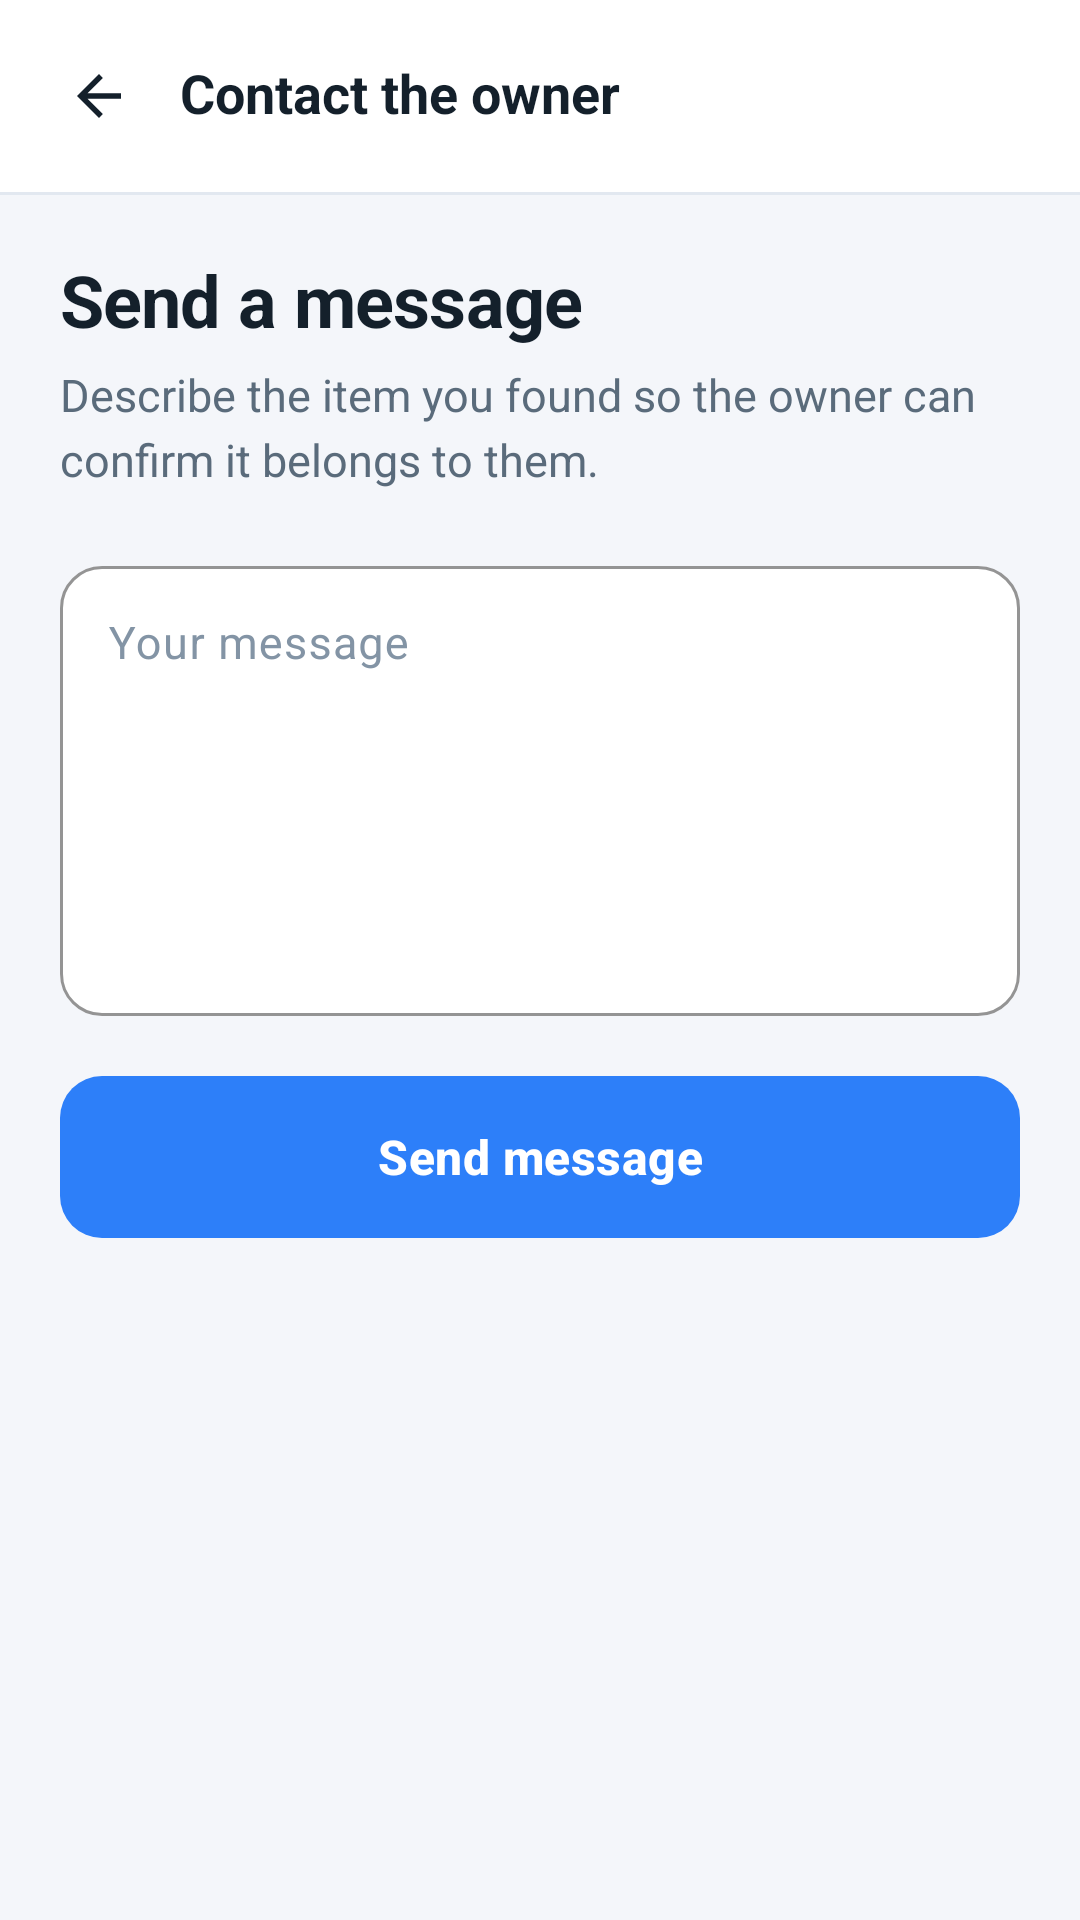

Screen size 1080px×1920px. Icon name, then its box in pixels as (x1, y1, x2, y2):
Back: (77, 74, 121, 118)
